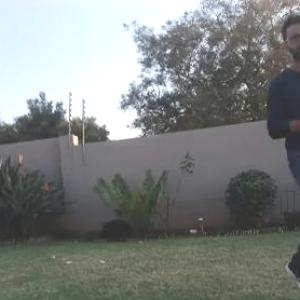follow: (260, 1, 300, 299)
